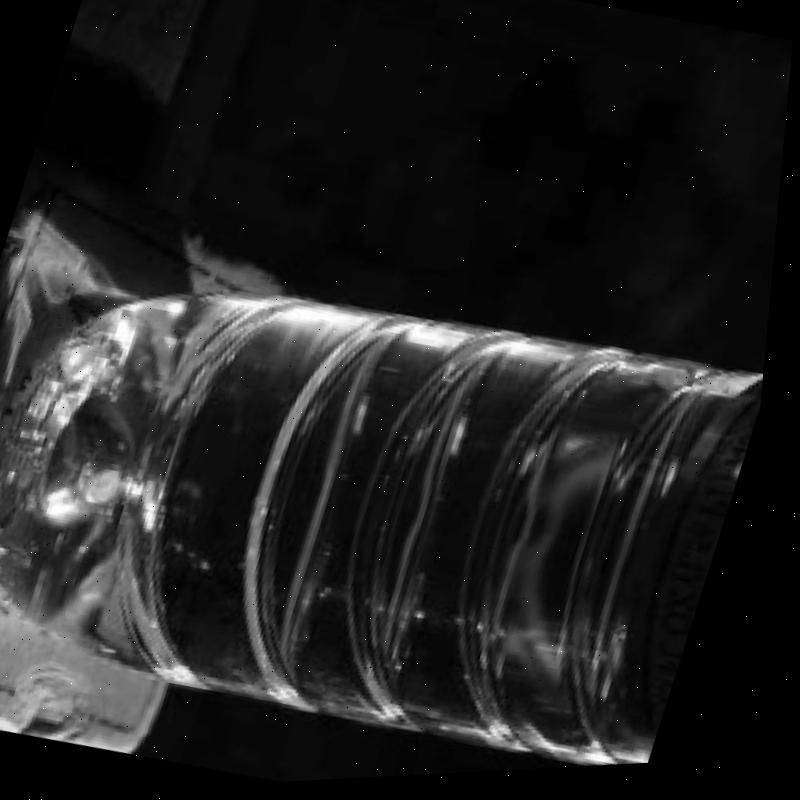botella: (0, 212, 783, 800)
